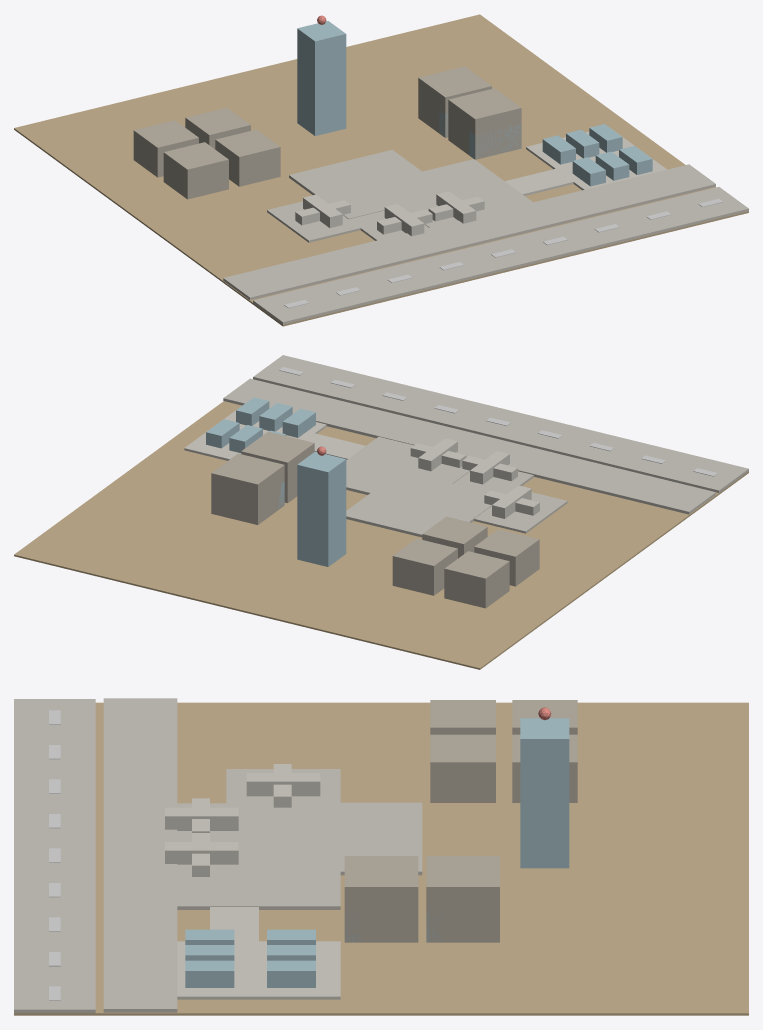
Rendered from stage_16.glb.
3 renders of one model, top to bottom at view 1: azimuth 30°, elevation 25°; view 2: azimuth 150°, elevation 25°; view 3: azimuth 270°, elevation 25°, orthographic. The views are drawn at different scales.
Visible parts, largest first — view 1: geometry_0; view 2: geometry_0; view 3: geometry_0.
Boxes of the visible parts, x1,y1,x2,y2 form: geometry_0: (14, 14, 748, 326); geometry_0: (14, 355, 748, 669); geometry_0: (14, 698, 748, 1015).
Size of the model in its own units: 9 by 2.06 by 9.
